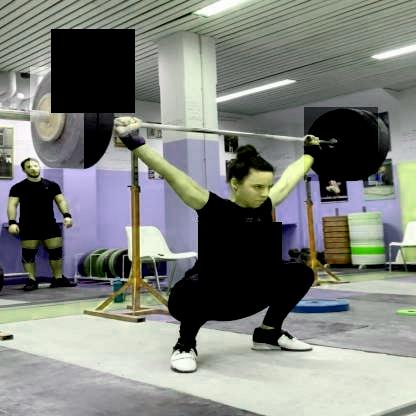barbell: (31, 67, 85, 170), (304, 108, 379, 182)
